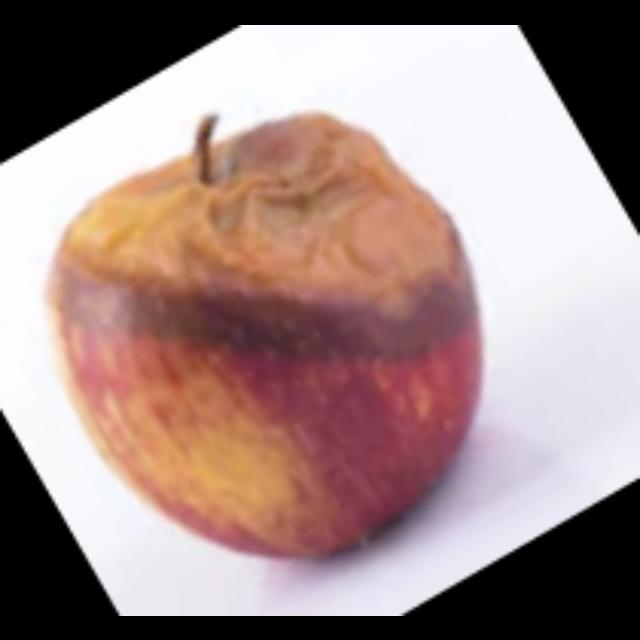Apel Tidak Segar: (38, 102, 490, 568)
